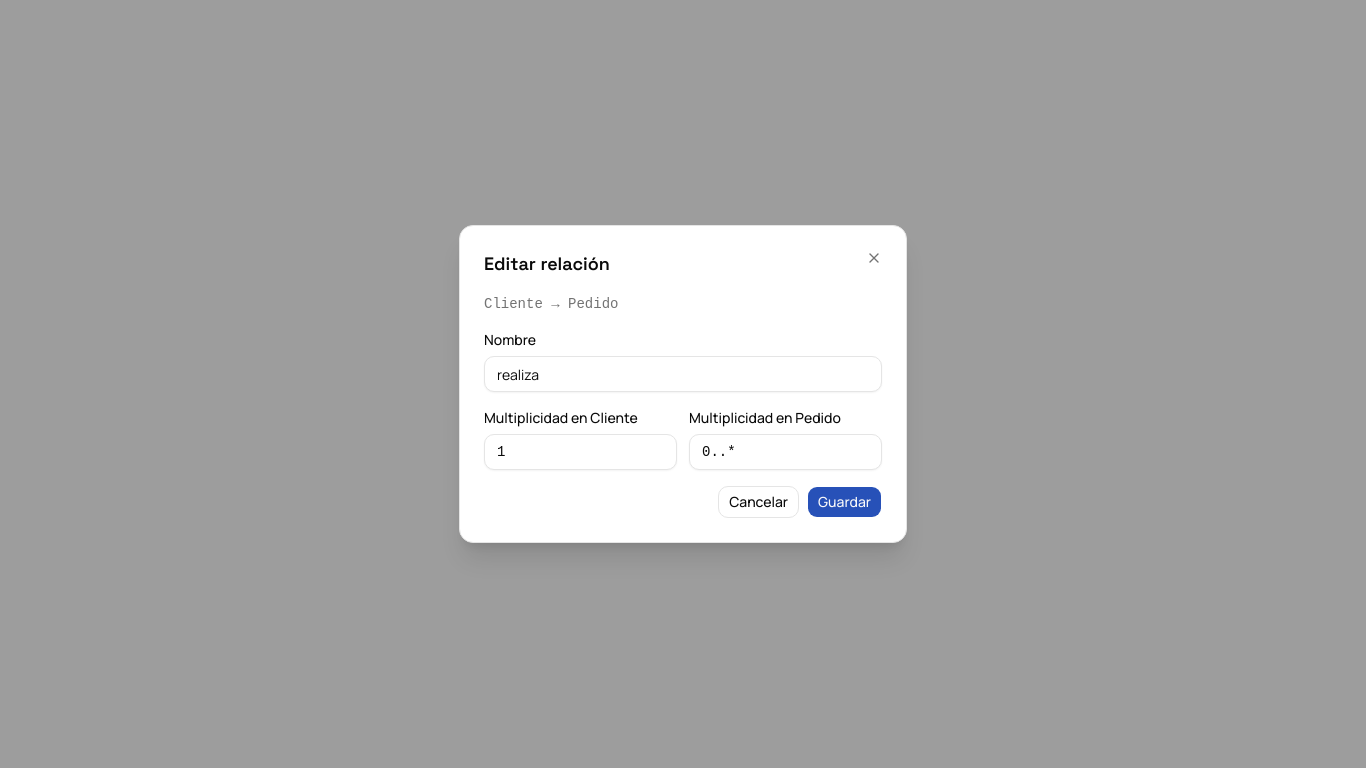
EditRelationshipDialog › rejects the multiplicity 1.. without sending anything
Step 1. Replace the text in the field labelled "Multiplicidad en Cliente" with "1.." → {"x": 580, "y": 452}, box [484,434,677,470]
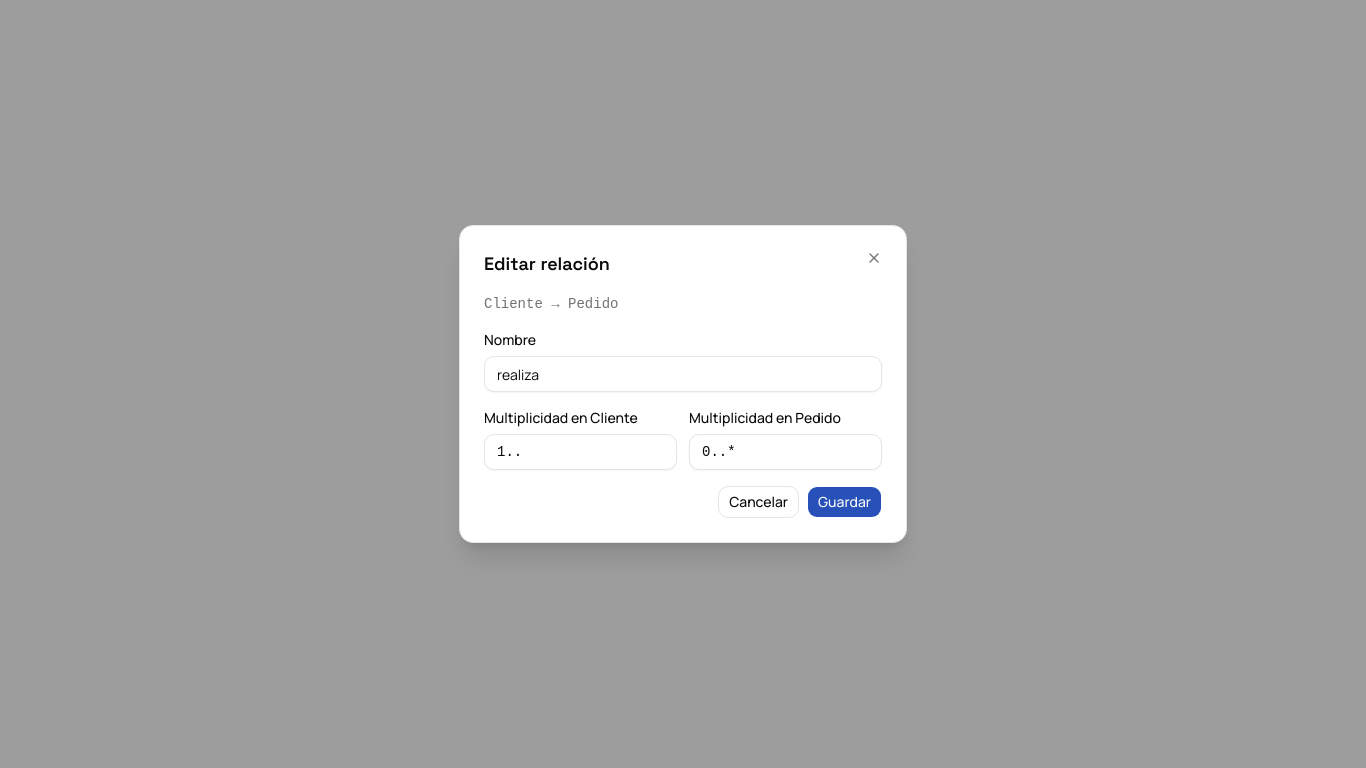
Step 2. Click the button "Guardar" → {"x": 845, "y": 502}, box [807,486,882,518]
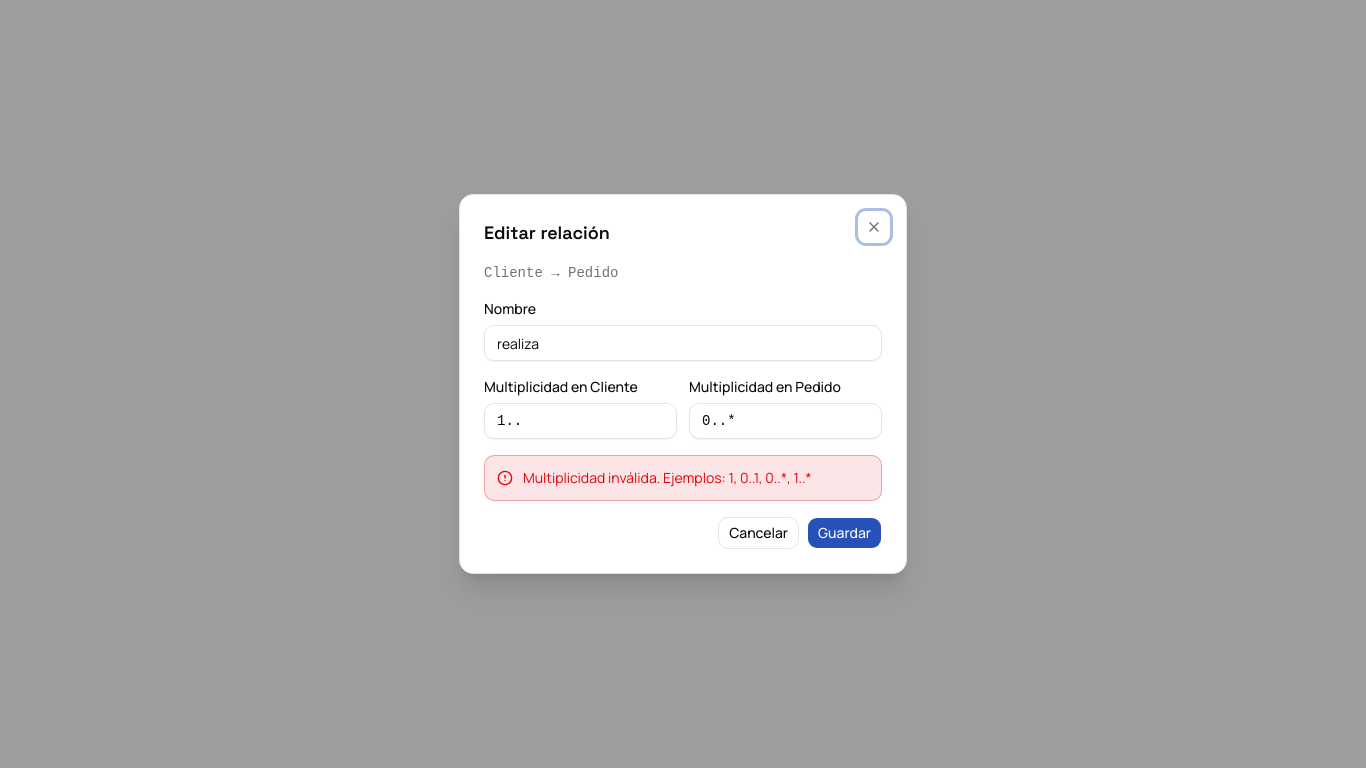
Now the text "Multiplicidad inválida. Ejemplos: 1, 0..1, 0..*, 1..*" is shown, box [523,468,812,488]
